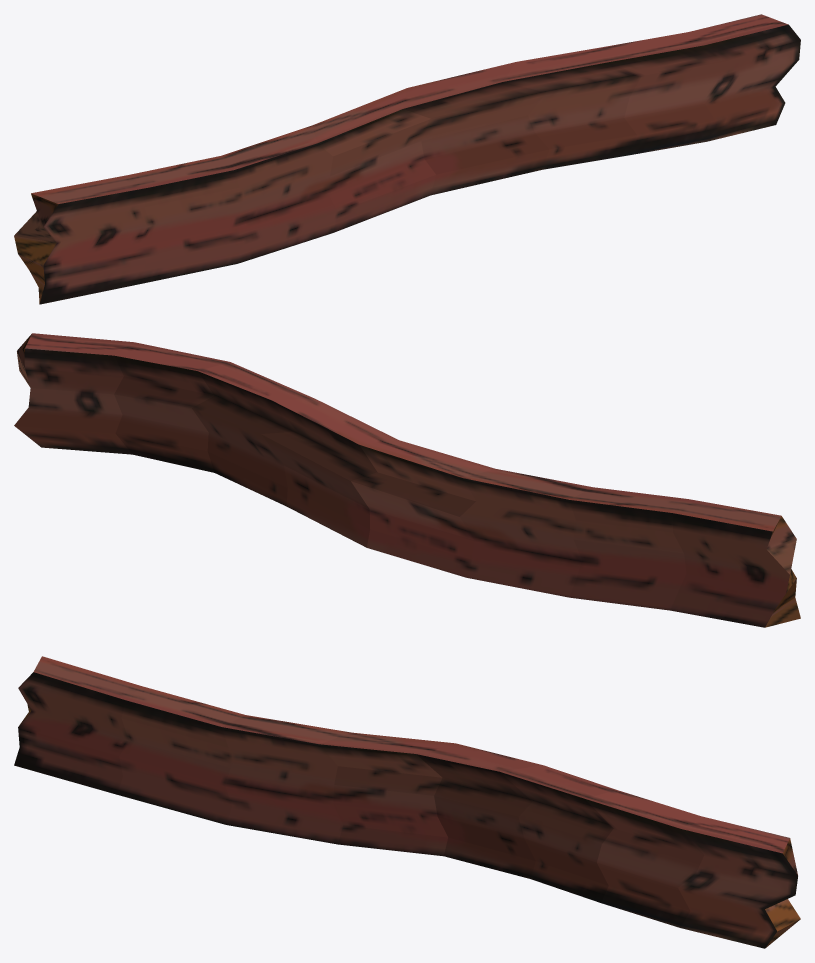
Rendered from Plank1.fbx.
3 renders of one model, top to bottom at view 1: azimuth 30°, elevation 25°; view 2: azimuth 150°, elevation 25°; view 3: azimuth 330°, elevation 25°, orthographic. The views are drawn at different scales.
Visible parts, largest first — view 1: Plank1; view 2: Plank1; view 3: Plank1.
Part boxes in pixels (left/top/right/bottom): Plank1: left=14, top=14, right=800, bottom=304; Plank1: left=14, top=333, right=800, bottom=627; Plank1: left=14, top=656, right=800, bottom=948.
Size of the model in its own units: 85.3 by 12.87 by 7.97.
